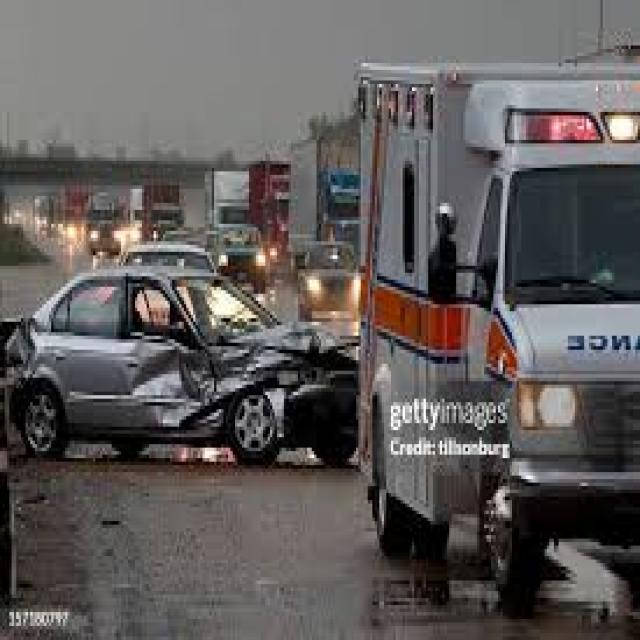Accident: (6, 223, 359, 464)
